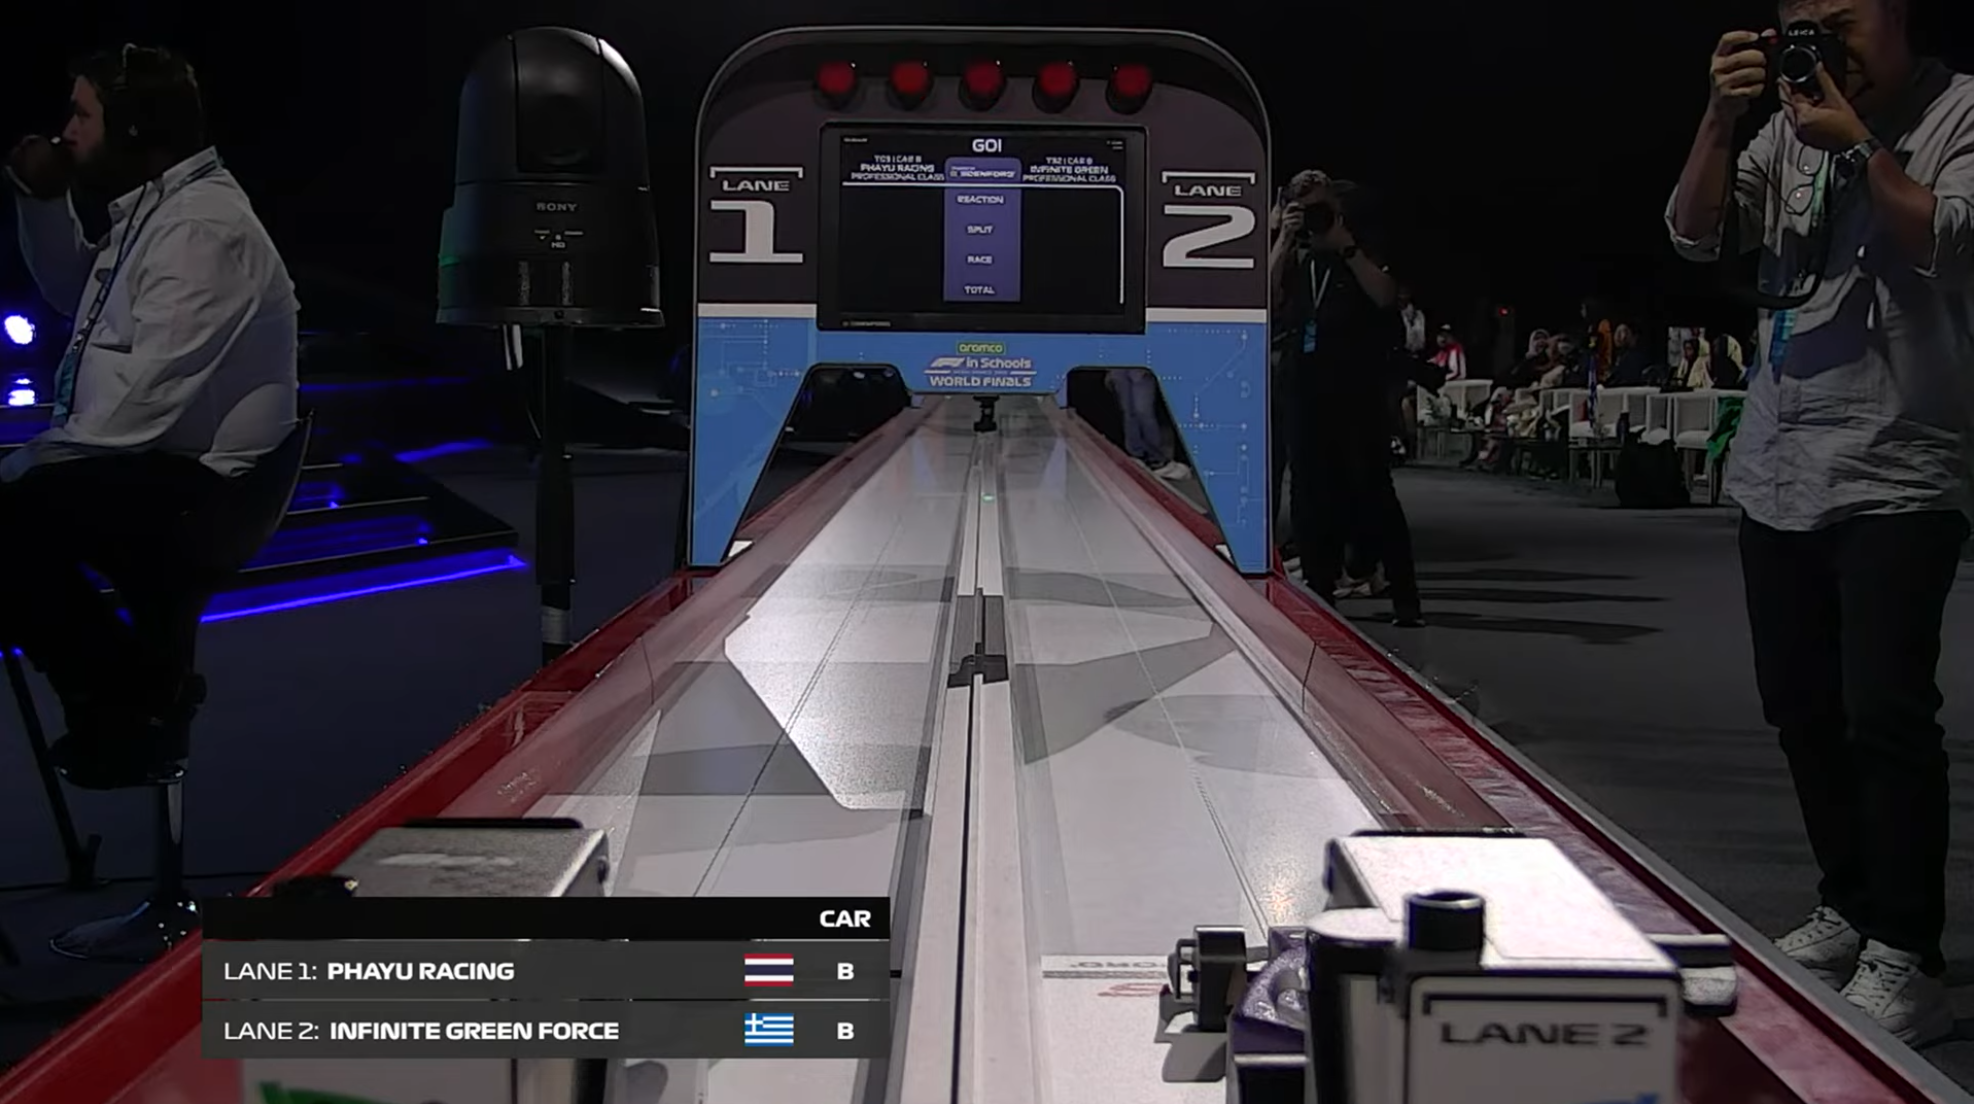Start: (696, 28, 1266, 363)
